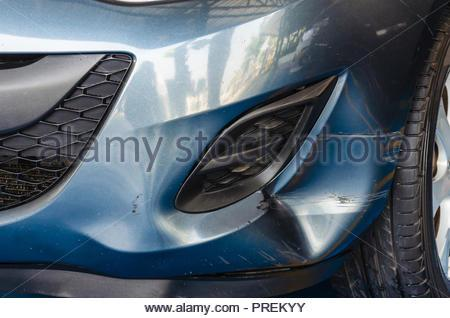front-bumper-dent: (0, 123, 399, 267)
